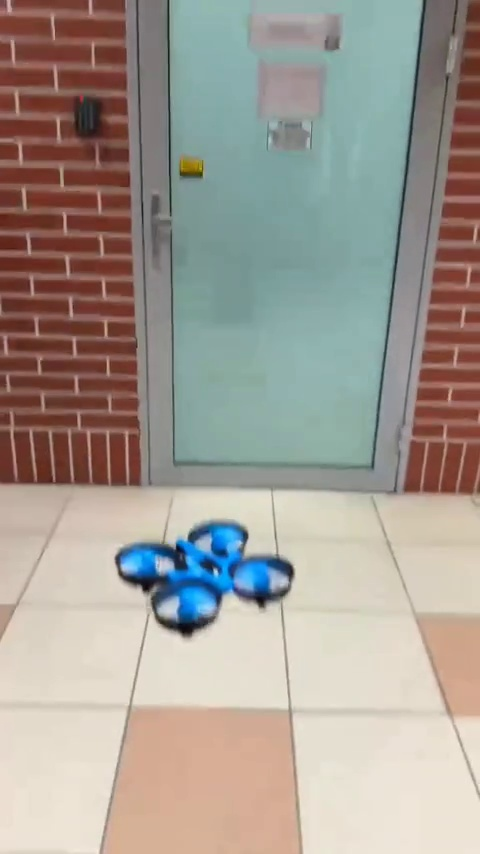drone: (116, 515, 291, 635)
